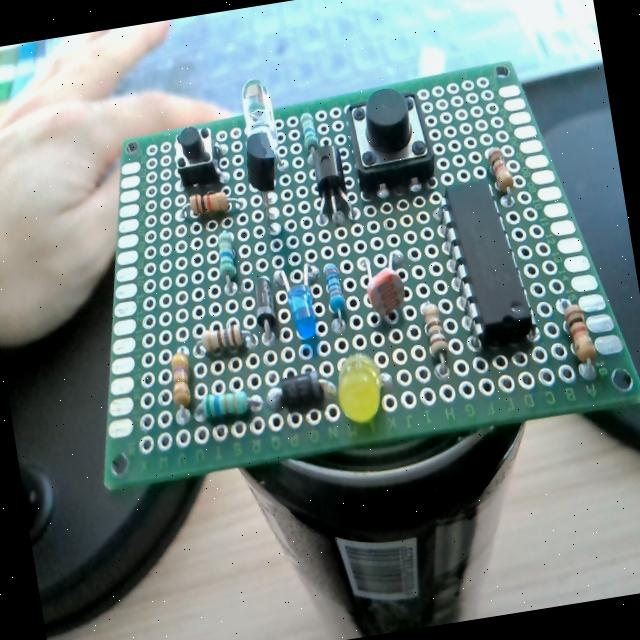IC: (427, 168, 544, 359)
cds: (356, 248, 411, 326)
diode: (264, 368, 338, 415), (250, 276, 280, 340)
led: (322, 347, 398, 427), (234, 73, 286, 157), (280, 258, 328, 342)
resistor: (563, 300, 596, 366), (195, 320, 251, 358), (213, 226, 242, 294), (422, 302, 451, 368), (167, 350, 196, 408), (201, 388, 252, 420), (322, 261, 348, 320), (486, 144, 516, 194), (190, 188, 230, 218), (298, 110, 320, 152)
switch: (344, 82, 441, 200), (171, 122, 224, 190)
transistor: (236, 131, 284, 236), (307, 142, 354, 229)
